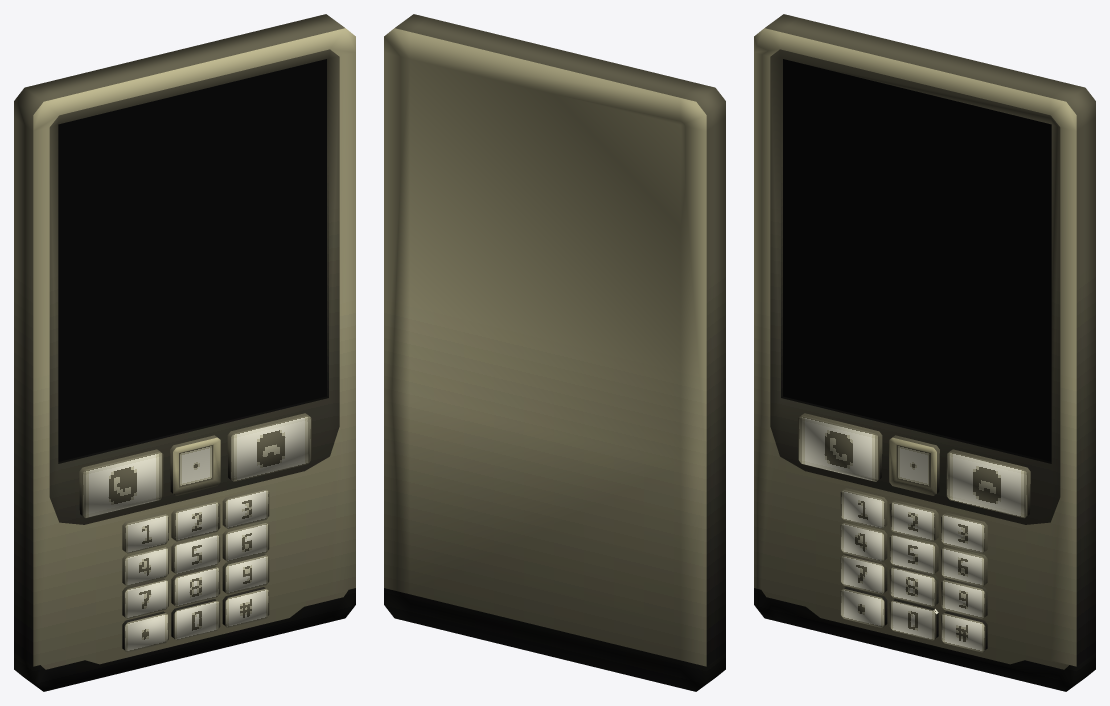
Rendered from menuPhone.glb.
3 renders of one model, left to right at view 1: azimuth 30°, elevation 25°; view 2: azimuth 150°, elevation 25°; view 3: azimuth 330°, elevation 25°, orthographic.
Parts seen in each view (by area): view 1: screen, phone, leftButton, rightButton, dpad, phone.002, phone.005, phone.000, phone.008, phone.#, phone.003, phone.006 (+5 smaller); view 2: phone; view 3: screen, phone, rightButton, leftButton, dpad, phone.002, phone.005, phone.008, phone.000, phone.*, phone.001, phone.004 (+5 smaller).
Boxes of the visible parts, x1,y1,x2,y2 form: screen: (58, 59, 326, 461); phone: (14, 14, 355, 691); leftButton: (79, 449, 163, 518); rightButton: (227, 413, 311, 481); dpad: (170, 435, 220, 495); phone.002: (171, 500, 220, 541); phone.005: (171, 533, 220, 574); phone.000: (171, 599, 220, 640); phone.008: (171, 565, 220, 606); phone.#: (222, 587, 269, 627); phone.003: (222, 488, 269, 529); phone.006: (222, 521, 269, 562); phone: (384, 14, 725, 691); screen: (783, 59, 1051, 461); phone: (754, 14, 1095, 691); rightButton: (946, 449, 1030, 518); leftButton: (798, 413, 882, 481); dpad: (889, 435, 939, 495); phone.002: (889, 500, 938, 541); phone.005: (889, 533, 938, 574); phone.008: (889, 565, 938, 606); phone.000: (889, 599, 938, 640); phone.*: (840, 587, 887, 627); phone.001: (840, 488, 887, 529); phone.004: (840, 521, 887, 562).
Bounding box in the file's own units: 0.5739 × 1 × 0.0666.
2 materials, 1 textured.
